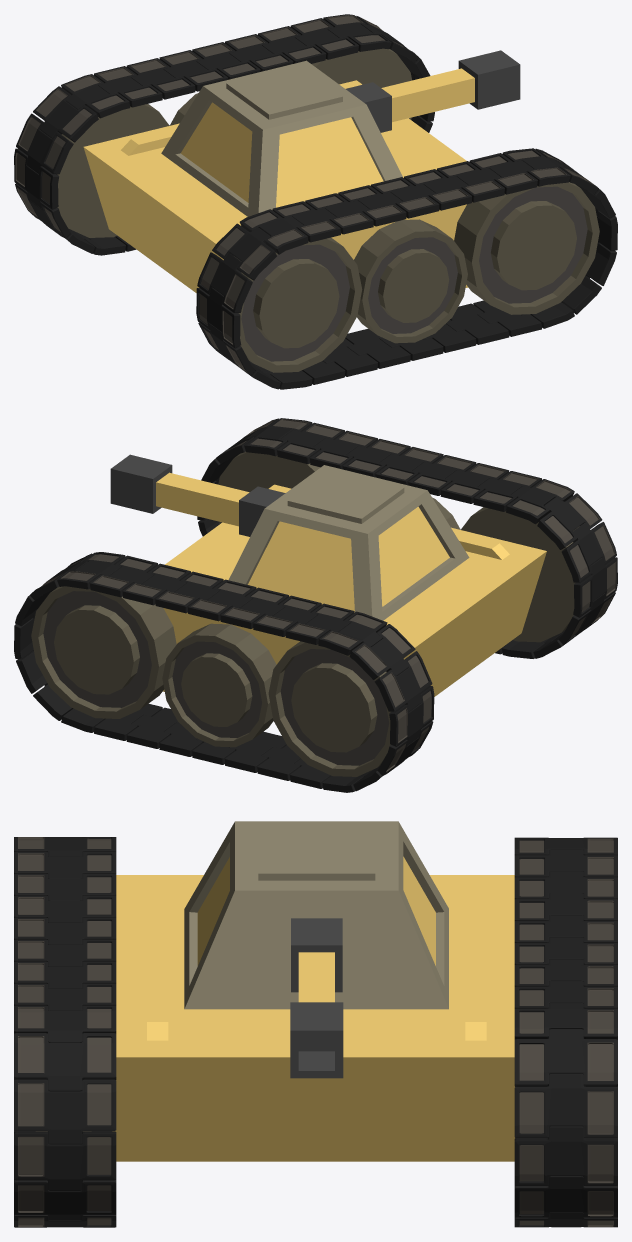
The model's file is PlayerTank.fbx.
3 views of the same model, one above another, from view 1: azimuth 30°, elevation 25°; view 2: azimuth 150°, elevation 25°; view 3: azimuth 270°, elevation 25° (orthographic). The views are drawn at different scales.
Visible parts, largest first — view 1: Cube.006, Cube.008, Cube.007, Cube.004, Cylinder.007, Cylinder.006, Cylinder.008, Cube.009, Cylinder.009, Cylinder.010; view 2: Cube.007, Cube.008, Cube.006, Cube.004, Cylinder.010, Cylinder.009, Cylinder.011, Cube.009, Cylinder.006, Cylinder.007; view 3: Cube.004, Cube.008, Cube.007, Cube.006, Cube.009.
Boxes of the visible parts, bbox=[...] form: Cube.006: bbox=[196, 148, 617, 389]; Cube.008: bbox=[161, 60, 402, 216]; Cube.007: bbox=[14, 14, 434, 255]; Cube.004: bbox=[83, 80, 468, 292]; Cylinder.007: bbox=[454, 182, 599, 314]; Cylinder.006: bbox=[234, 237, 362, 372]; Cylinder.008: bbox=[354, 219, 467, 343]; Cube.009: bbox=[346, 50, 520, 132]; Cylinder.009: bbox=[57, 104, 169, 237]; Cylinder.010: bbox=[311, 48, 412, 119]; Cube.007: bbox=[14, 552, 434, 792]; Cube.008: bbox=[228, 465, 469, 620]; Cube.006: bbox=[197, 418, 617, 658]; Cube.004: bbox=[163, 484, 546, 696]; Cylinder.010: bbox=[31, 586, 176, 718]; Cylinder.009: bbox=[268, 641, 390, 776]; Cylinder.011: bbox=[162, 623, 276, 747]; Cube.009: bbox=[110, 454, 285, 536]; Cylinder.006: bbox=[461, 507, 579, 642]; Cylinder.007: bbox=[218, 451, 320, 524]; Cube.004: bbox=[112, 875, 514, 1161]; Cube.008: bbox=[184, 821, 448, 1009]; Cube.007: bbox=[514, 837, 617, 1227]; Cube.006: bbox=[14, 837, 116, 1227]; Cube.009: bbox=[290, 918, 343, 1078].
Bounding box in the file's own units: 197 × 94.42 × 194.
